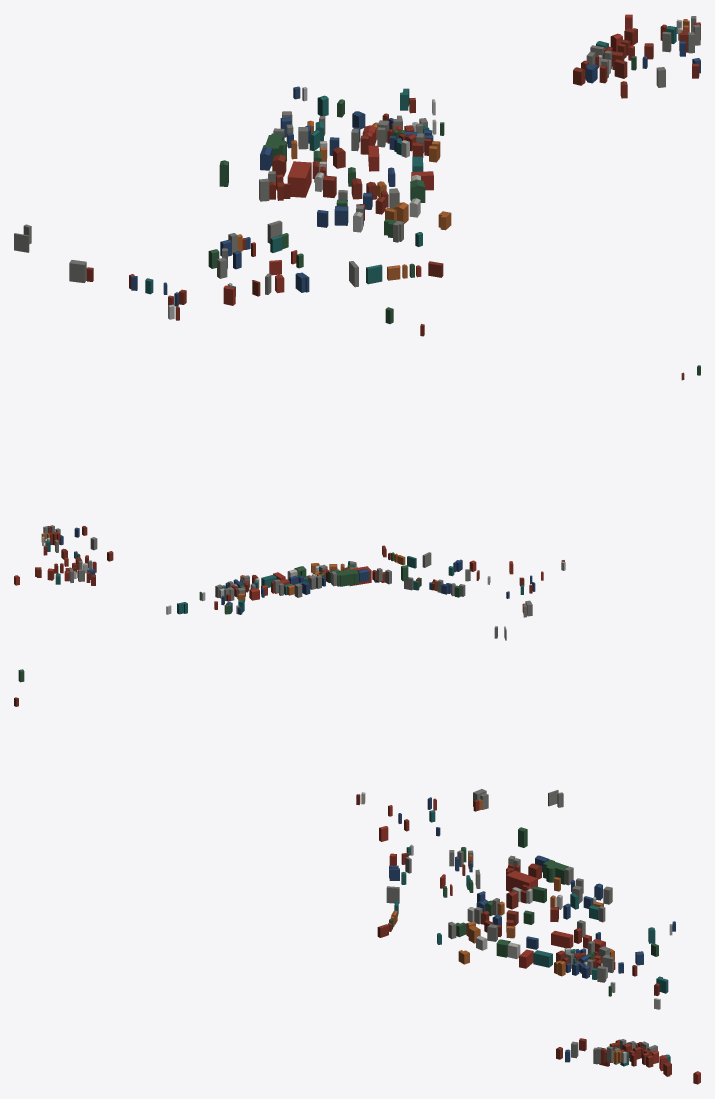
The model's file is near-15-27368-14874.11e8faf6.glb.
3 views of the same model, one above another, from view 1: azimuth 30°, elevation 25°; view 2: azimuth 150°, elevation 25°; view 3: azimuth 270°, elevation 25° (orthographic). The views are drawn at different scales.
Size of the model in its own units: 999 by 285 by 1063.
